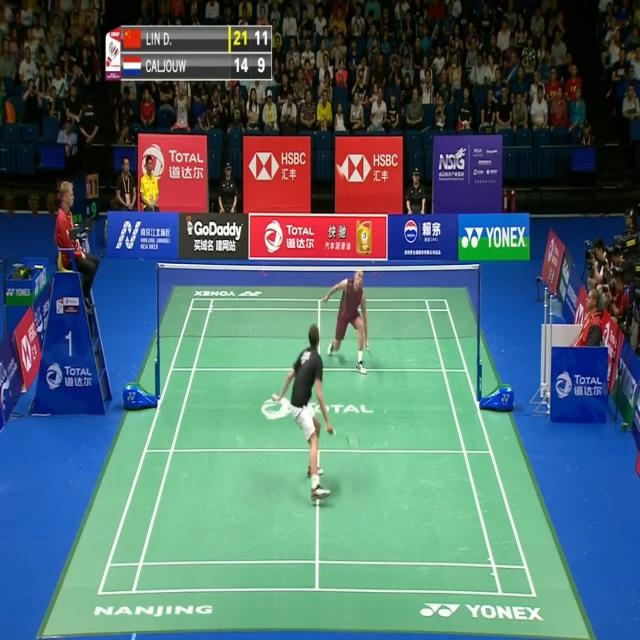Player1: (272, 322, 338, 508)
Player2: (320, 257, 376, 377)
